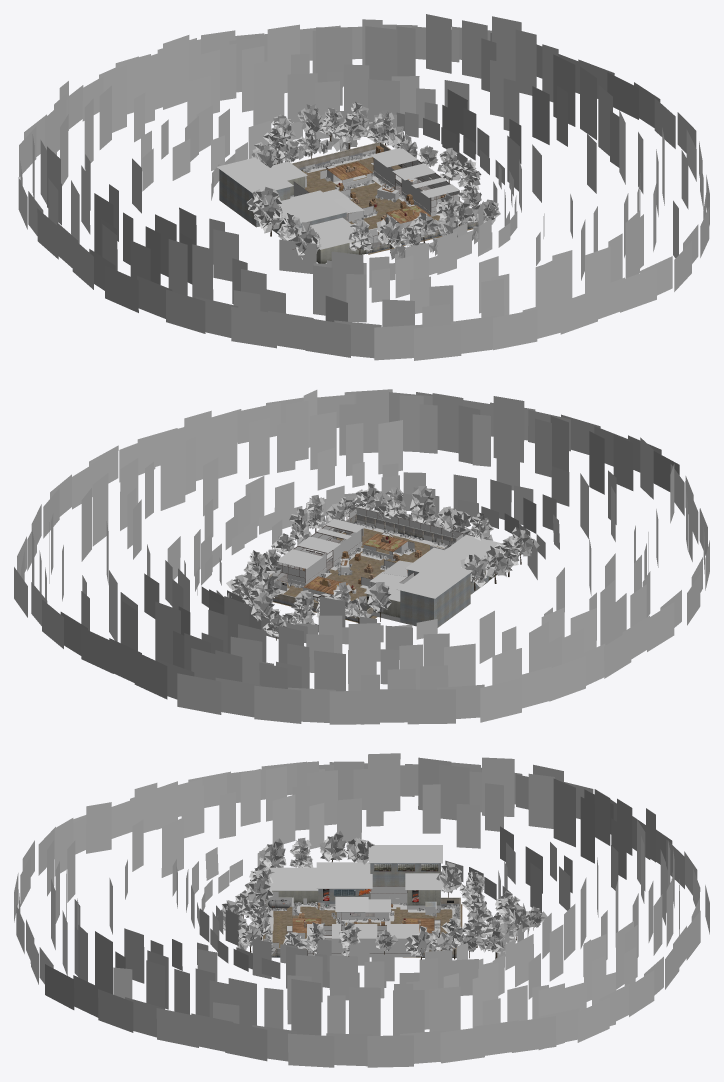
The model's file is arena (1).fbx.
3 views of the same model, one above another, from view 1: azimuth 30°, elevation 25°; view 2: azimuth 150°, elevation 25°; view 3: azimuth 270°, elevation 25° (orthographic). The views are drawn at different scales.
Visible parts, largest first — view 1: Combined_Mesh__root__scene__9, Combined_Mesh__root__scene__3, Combined_Mesh__root__scene__8, Combined_Mesh__root__scene__7, Combined_Mesh__root__scene__4, Combined_Mesh__root__scene__2, Combined_Mesh__root__scene__0, Combined_Mesh__root__scene__5; view 2: Combined_Mesh__root__scene__9, Combined_Mesh__root__scene__3, Combined_Mesh__root__scene__8, Combined_Mesh__root__scene__7, Combined_Mesh__root__scene__4, Combined_Mesh__root__scene__2, Combined_Mesh__root__scene__0; view 3: Combined_Mesh__root__scene__9, Combined_Mesh__root__scene__3, Combined_Mesh__root__scene__8, Combined_Mesh__root__scene__4, Combined_Mesh__root__scene__7, Combined_Mesh__root__scene__5, Combined_Mesh__root__scene__0, Combined_Mesh__root__scene__2.
Part boxes in pixels (<box>): Combined_Mesh__root__scene__9: <box>18,14,709,360</box>; Combined_Mesh__root__scene__3: <box>217,148,468,249</box>; Combined_Mesh__root__scene__8: <box>291,142,478,254</box>; Combined_Mesh__root__scene__7: <box>219,169,377,243</box>; Combined_Mesh__root__scene__4: <box>327,145,445,232</box>; Combined_Mesh__root__scene__2: <box>255,118,483,254</box>; Combined_Mesh__root__scene__0: <box>305,149,423,250</box>; Combined_Mesh__root__scene__5: <box>287,176,366,263</box>; Combined_Mesh__root__scene__9: <box>14,389,709,724</box>; Combined_Mesh__root__scene__3: <box>277,519,502,622</box>; Combined_Mesh__root__scene__8: <box>269,514,456,622</box>; Combined_Mesh__root__scene__7: <box>356,514,488,627</box>; Combined_Mesh__root__scene__4: <box>278,532,456,594</box>; Combined_Mesh__root__scene__2: <box>235,499,525,640</box>; Combined_Mesh__root__scene__0: <box>279,520,450,593</box>; Combined_Mesh__root__scene__9: <box>14,753,709,1067</box>; Combined_Mesh__root__scene__3: <box>265,845,442,957</box>; Combined_Mesh__root__scene__8: <box>263,897,462,957</box>; Combined_Mesh__root__scene__4: <box>268,864,456,948</box>; Combined_Mesh__root__scene__7: <box>265,863,440,938</box>; Combined_Mesh__root__scene__5: <box>272,890,440,905</box>; Combined_Mesh__root__scene__0: <box>267,902,459,957</box>; Combined_Mesh__root__scene__2: <box>243,846,533,959</box>.
Size of the model in its own units: 217 by 24.22 by 233.
